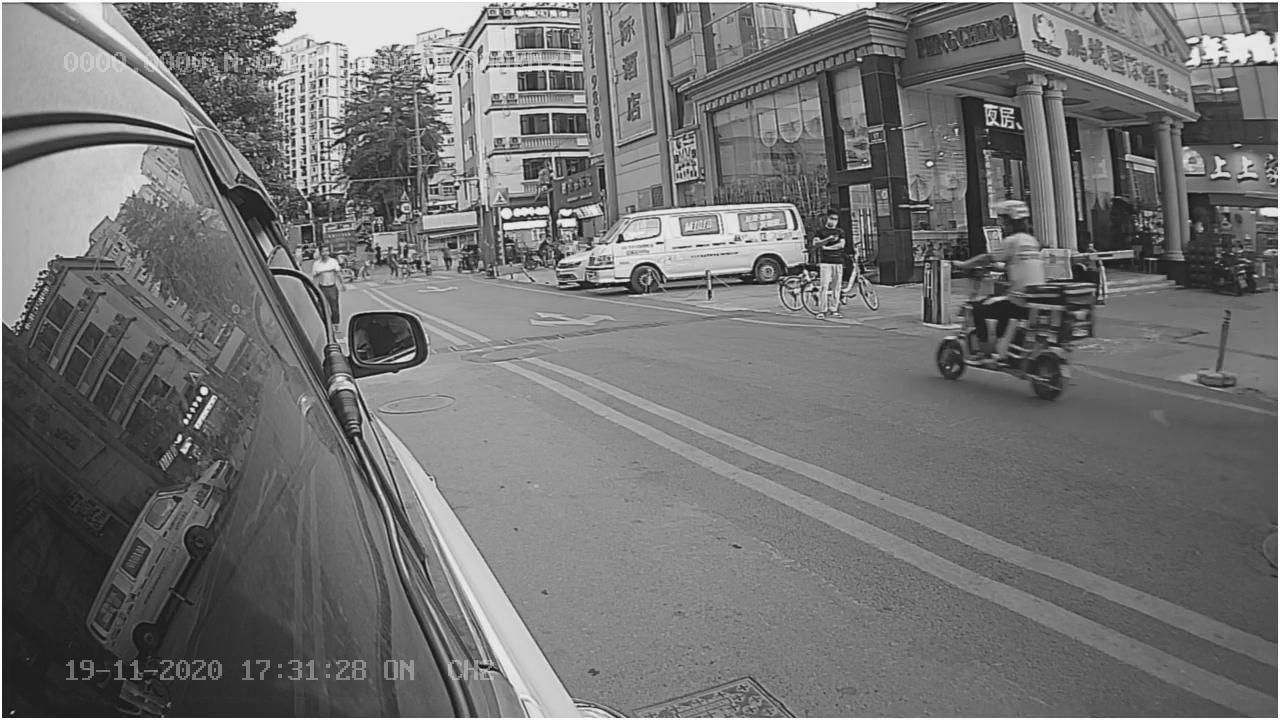person: (964, 203, 1048, 281)
